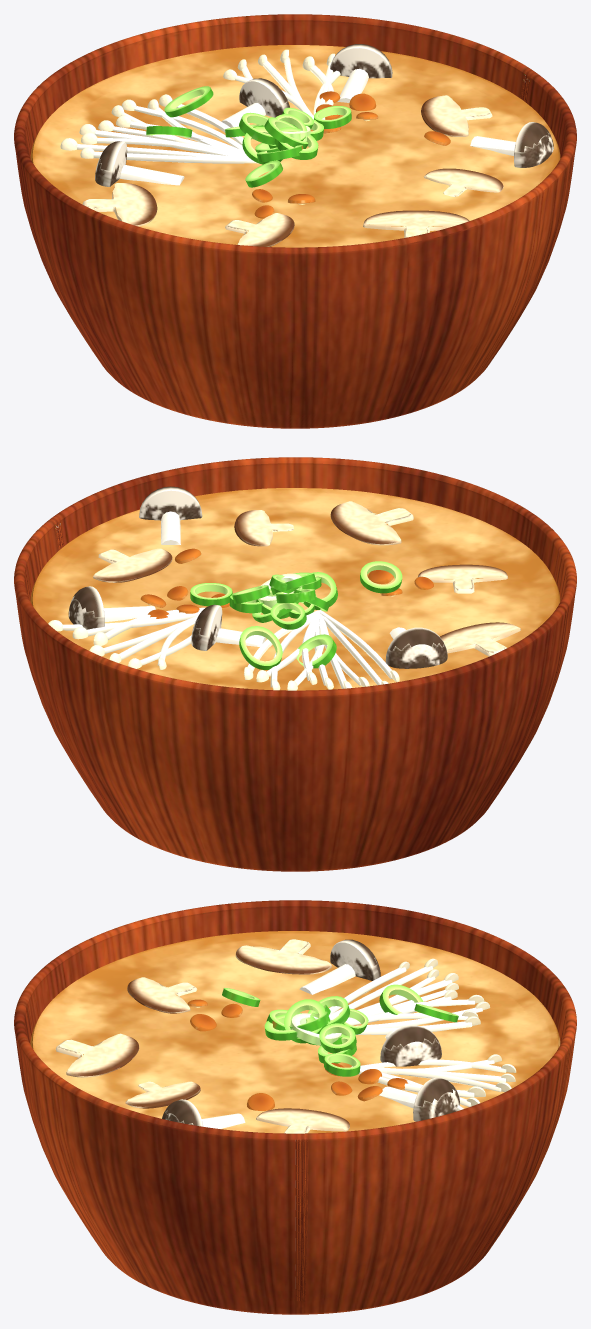
The model's file is miso_soup.glb.
3 renders of one model, top to bottom at view 1: azimuth 30°, elevation 25°; view 2: azimuth 150°, elevation 25°; view 3: azimuth 270°, elevation 25°, orthographic.
Parts seen in each view (by area): view 1: ing_base, ing_dashi, ing_enoki, ing_shiitake, ing_shimeji, ing_scallion, ing_nameko; view 2: ing_base, ing_dashi, ing_shiitake, ing_enoki, ing_shimeji, ing_scallion, ing_nameko; view 3: ing_base, ing_dashi, ing_shiitake, ing_enoki, ing_shimeji, ing_scallion, ing_nameko.
Part boxes in pixels (x1,y1,x2,y2): ing_base: (14,14,576,428); ing_dashi: (30,45,560,247); ing_enoki: (60,49,340,163); ing_shiitake: (82,95,503,246); ing_shimeji: (95,44,553,186); ing_scallion: (146,86,351,187); ing_nameko: (252,91,450,218); ing_base: (14,457,576,871); ing_dashi: (30,488,560,690); ing_shiitake: (93,501,520,656); ing_enoki: (48,607,399,690); ing_shimeji: (68,486,447,668); ing_scallion: (190,561,402,670); ing_nameko: (140,548,433,618); ing_base: (14,900,576,1314); ing_dashi: (30,931,560,1133); ing_shiitake: (55,939,349,1133); ing_enoki: (328,958,516,1110); ing_shimeji: (162,939,459,1128); ing_scallion: (222,984,458,1076); ing_nameko: (187,999,407,1110).
Size of the model in its own units: 0.118 by 0.0522 by 0.118.
1 material, 1 textured.
